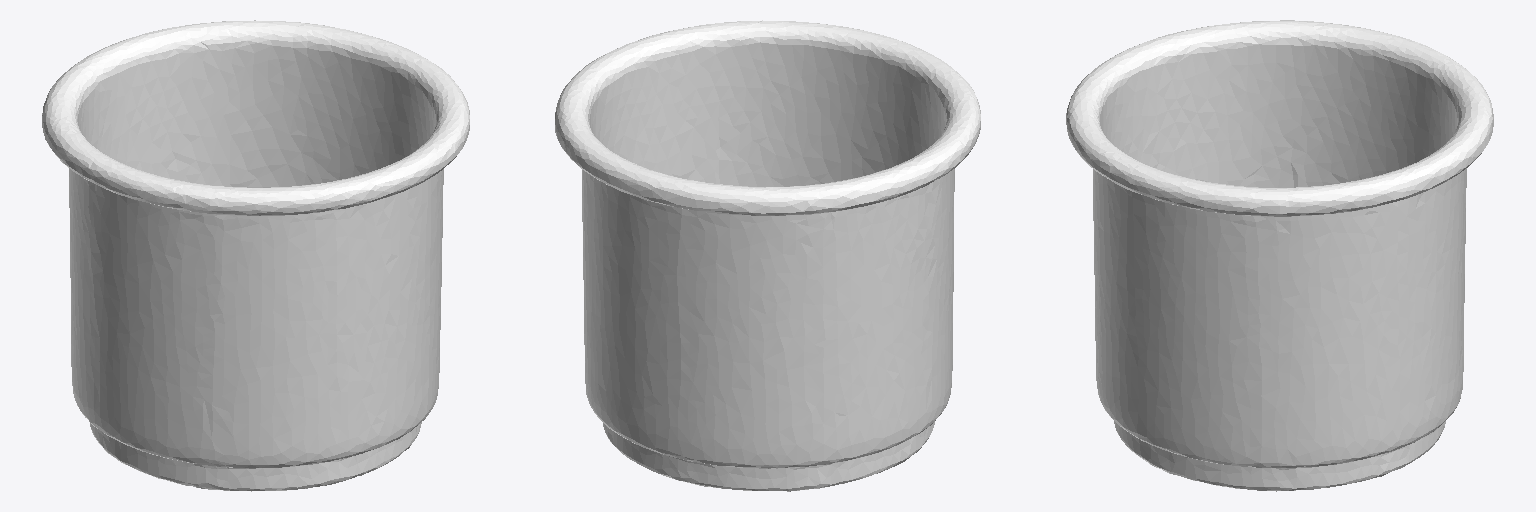
robot.urdf — 036_wood_block:
<robot name="036_wood_block">
	<link name="_name">
		<visual>
			<origin xyz="-0.233730518561954 0.10273626224740963 -1.0276919233489217" rpy="0 0 0" />
			<geometry>
				<mesh filename="036_wood_block/google_16k/textured.obj" scale="10 10 10" />
			</geometry>
			<material name="texture">
				<color rgba="1.0 1.0 1.0 1.0" />
			</material>
		</visual>
		<collision>
			<geometry>
				<mesh filename="036_wood_block/google_16k/textured_vhacd.obj" scale="10 10 10" />
			</geometry>
		<origin xyz="-0.233730518561954 0.10273626224740963 -1.0276919233489217" rpy="0 0 0" /></collision>
		<inertial>
			<mass value="1.0" />
			<inertia ixx="1.0" ixy="0.0" ixz="0.0" iyy="1.0" iyz="0.0" izz="1.0" />
		</inertial>
	</link>
</robot>

--- Facts derived from the render (not from the file) ---
3 views of the same robot in one strip: view 1: azimuth 30°, elevation 25°; view 2: azimuth 150°, elevation 25°; view 3: azimuth 270°, elevation 25° (orthographic).
Robot: 036_wood_block — 1 links, 0 joints (none); root link _name; default pose: all joints at 0.
Visible links, largest first — view 1: _name; view 2: _name; view 3: _name.
Boxes of the visible links, <box> form: _name: <box>42,20,469,491</box>; _name: <box>555,20,980,491</box>; _name: <box>1066,20,1493,491</box>.
Bounding box of the posed robot: 0.915 × 0.9162 × 0.7506 m (x, y, z).
1 mesh visuals loaded from 1 distinct referenced files (1 OBJ).